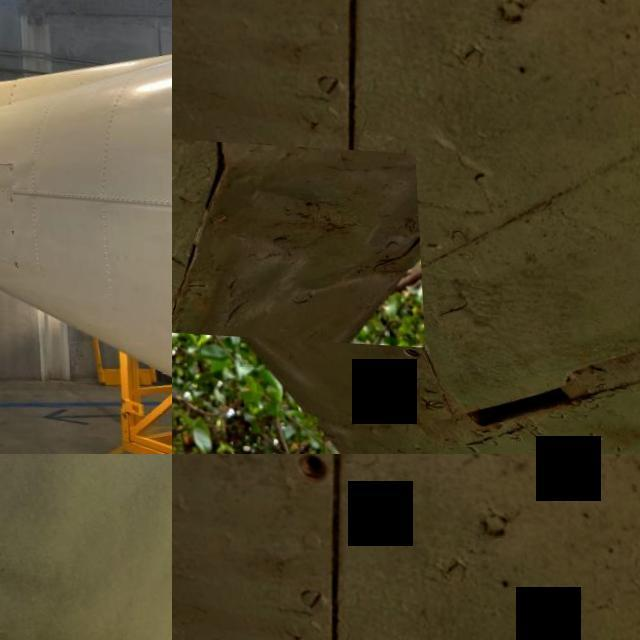Dent: (172, 136, 420, 342)
Missing_Fastener: (278, 454, 346, 497), (388, 332, 426, 368)
